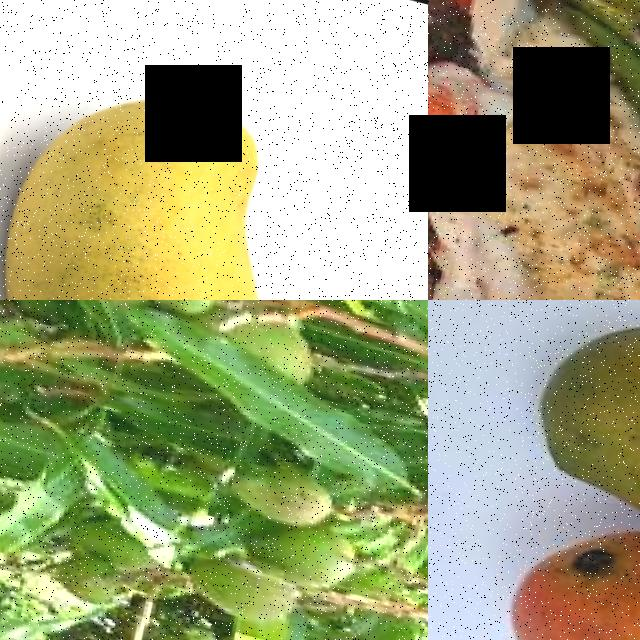lobster tails: (428, 0, 565, 300)
mango: (0, 44, 317, 300), (507, 300, 640, 584), (481, 497, 640, 640), (168, 541, 300, 634), (237, 510, 360, 588), (221, 452, 336, 531)
